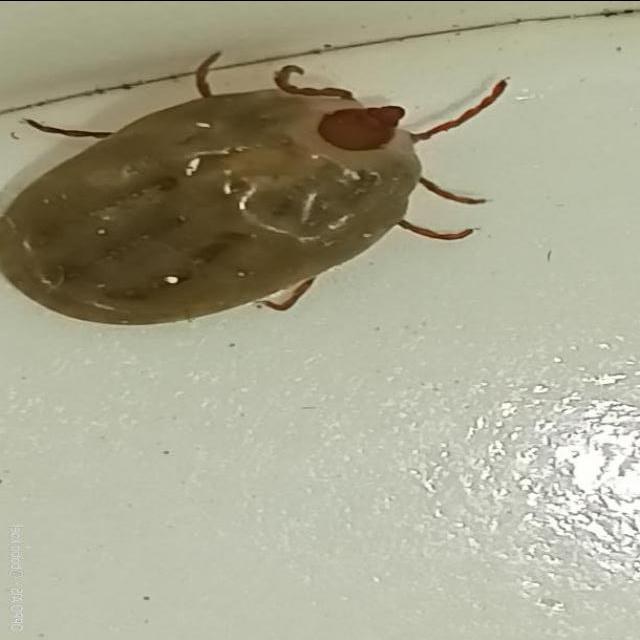Rhipicephalus Sanguineus-F-Fed: (0, 50, 508, 325)
